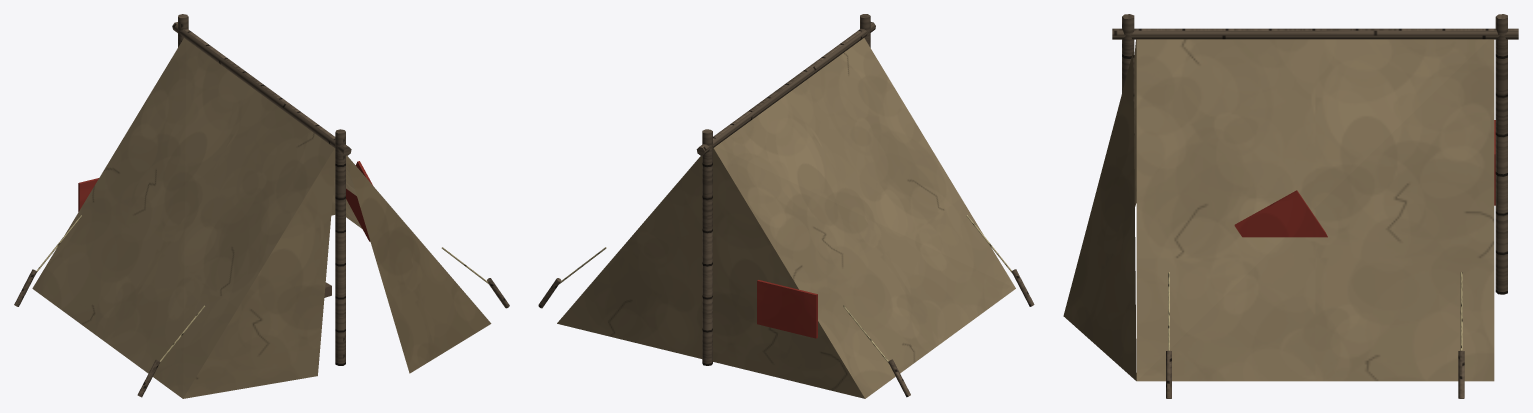
File: zelt.glb
The picture shows the model from 3 angles, left to right: view 1: azimuth 30°, elevation 25°; view 2: azimuth 150°, elevation 25°; view 3: azimuth 270°, elevation 25°; orthographic projection. The views are drawn at different scales.
Visible parts, largest first — view 1: modell; view 2: modell; view 3: modell.
Boxes of the visible parts, x1,y1,x2,y2 form: modell: (14, 14, 509, 398); modell: (538, 14, 1034, 398); modell: (1063, 14, 1518, 398).
Bounding box in the file's own units: 3.13 × 1.88 × 2.8.
Materials: 2 (2 with a texture image).
